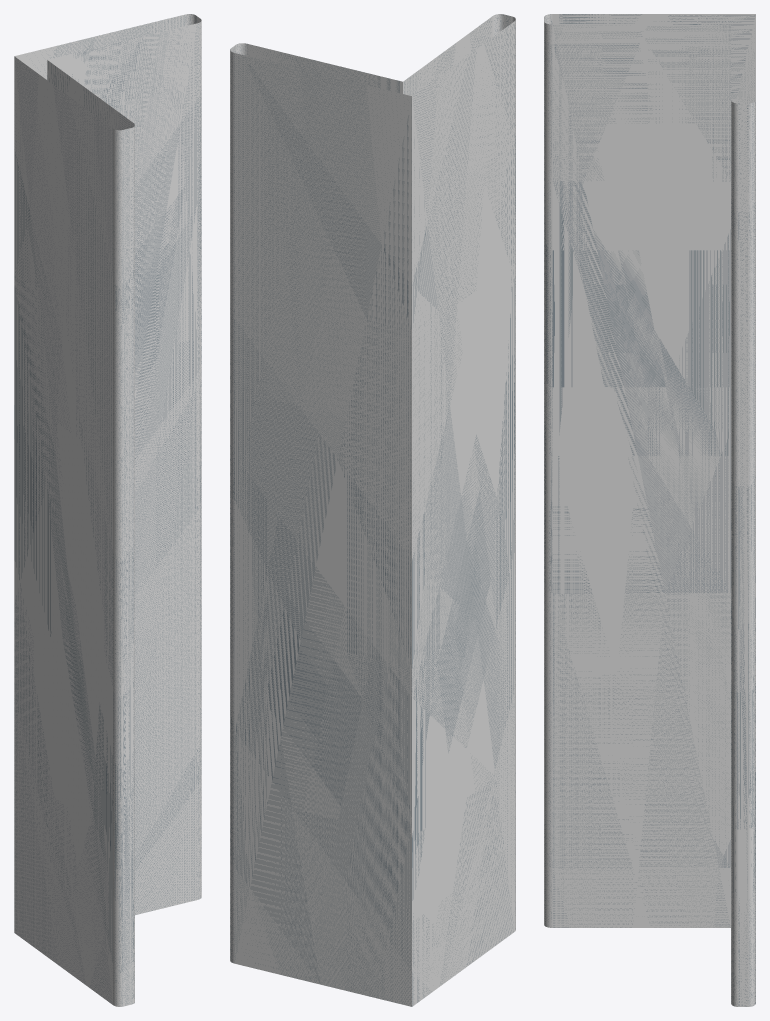
File: PW_CornerFixElem_ds_T2_085x085x010x400.dae
The picture shows the model from 3 angles, left to right: view 1: azimuth 30°, elevation 25°; view 2: azimuth 150°, elevation 25°; view 3: azimuth 270°, elevation 25°; orthographic projection. The views are drawn at different scales.
Parts seen in each view (by area): view 1: group_0; view 2: group_0; view 3: group_0.
Part boxes in pixels (x1,y1,x2,y2): group_0: [14, 14, 201, 1006]; group_0: [230, 14, 515, 1006]; group_0: [544, 14, 755, 1006].
Bounding box in the file's own units: 33.46 × 33.46 × 157.
